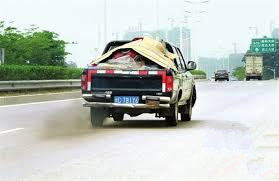smoke: (34, 103, 116, 139)
